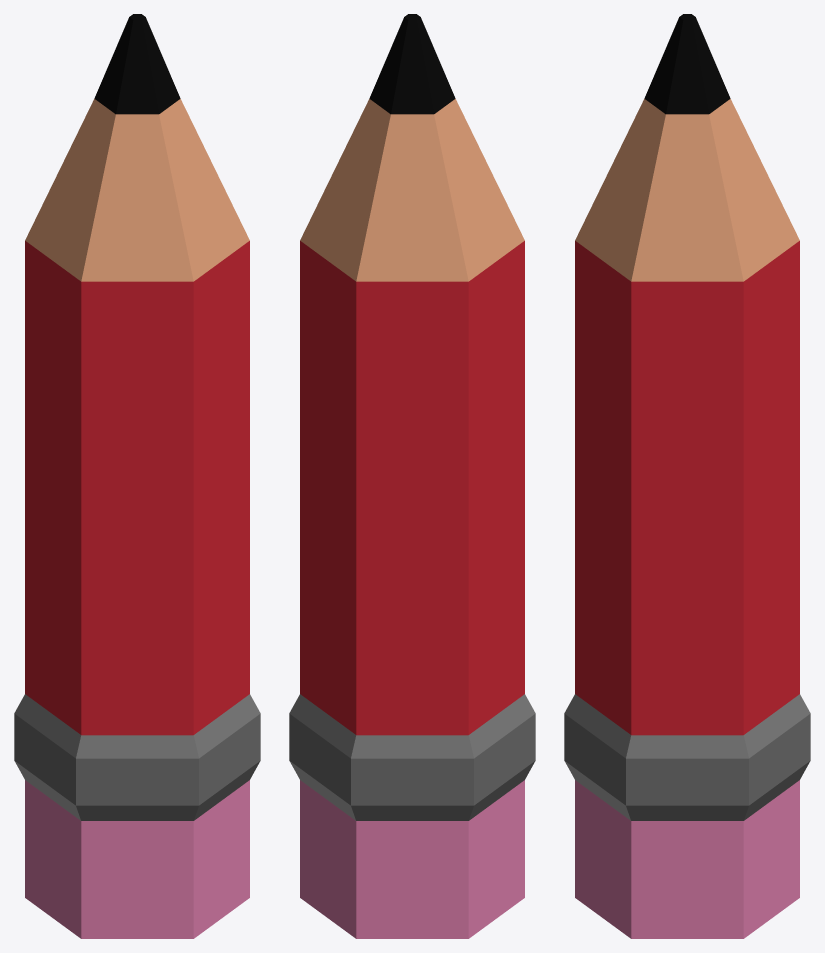
File: Pencil.fbx
The picture shows the model from 3 angles, left to right: view 1: azimuth 30°, elevation 25°; view 2: azimuth 150°, elevation 25°; view 3: azimuth 270°, elevation 25°; orthographic projection.
Parts seen in each view (by area): view 1: Pencil; view 2: Pencil; view 3: Pencil.
Boxes of the visible parts, x1,y1,x2,y2 form: Pencil: [14, 14, 260, 938]; Pencil: [289, 14, 535, 938]; Pencil: [564, 14, 810, 938].
Size of the model in its own units: 41.24 by 188 by 47.62.
